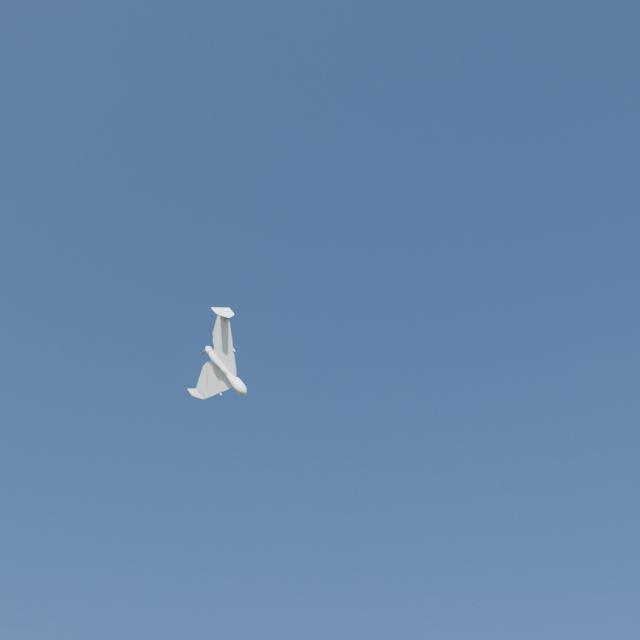Airaplan: (187, 308, 247, 400)
